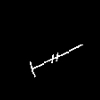treble_crochet: (30, 45, 80, 76)
